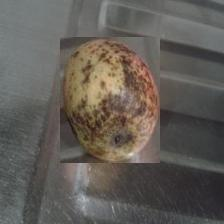Mango Semirotten: (60, 37, 160, 163)
